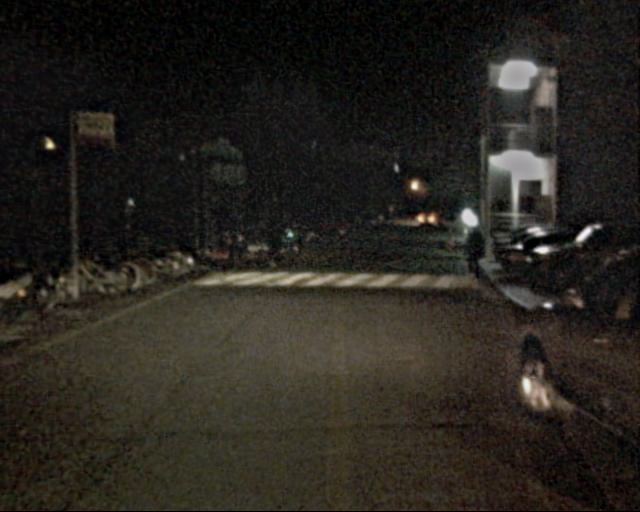person: (459, 224, 484, 284), (202, 225, 225, 282), (257, 219, 274, 260)
